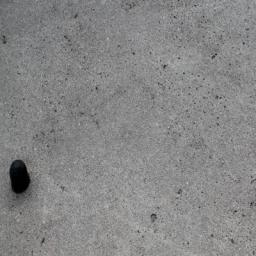FOD: (9, 158, 35, 196)
